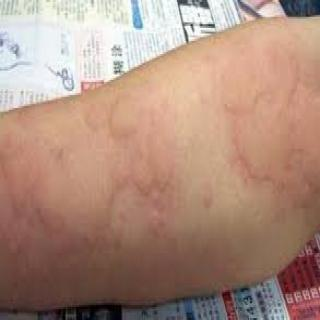urticaria: (97, 177, 169, 242), (230, 106, 278, 190), (102, 93, 142, 141), (31, 203, 67, 239), (296, 61, 319, 106)
